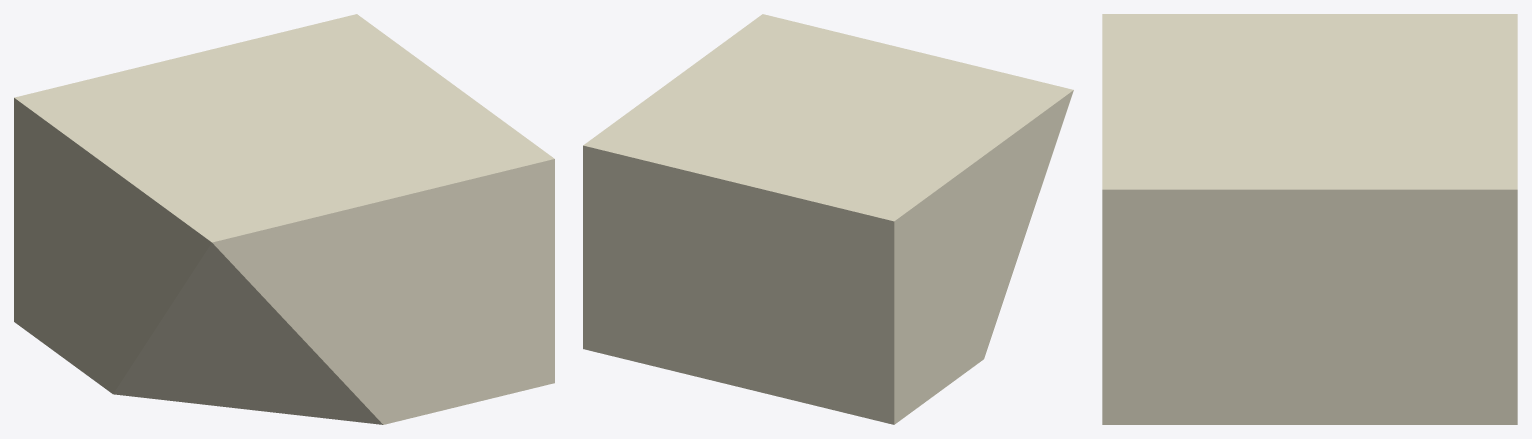
The model's file is modularbuildings_036.glb.
The picture shows the model from 3 angles, left to right: view 1: azimuth 30°, elevation 25°; view 2: azimuth 150°, elevation 25°; view 3: azimuth 270°, elevation 25°; orthographic projection. The views are drawn at different scales.
Parts seen in each view (by area): view 1: Mesh1 Group1 Model; view 2: Mesh1 Group1 Model; view 3: Mesh1 Group1 Model.
Boxes of the visible parts, bbox=[...] form: Mesh1 Group1 Model: bbox=[14, 14, 554, 424]; Mesh1 Group1 Model: bbox=[583, 14, 1073, 424]; Mesh1 Group1 Model: bbox=[1102, 14, 1517, 424].
Size of the model in its own units: 1 by 0.625 by 1.
